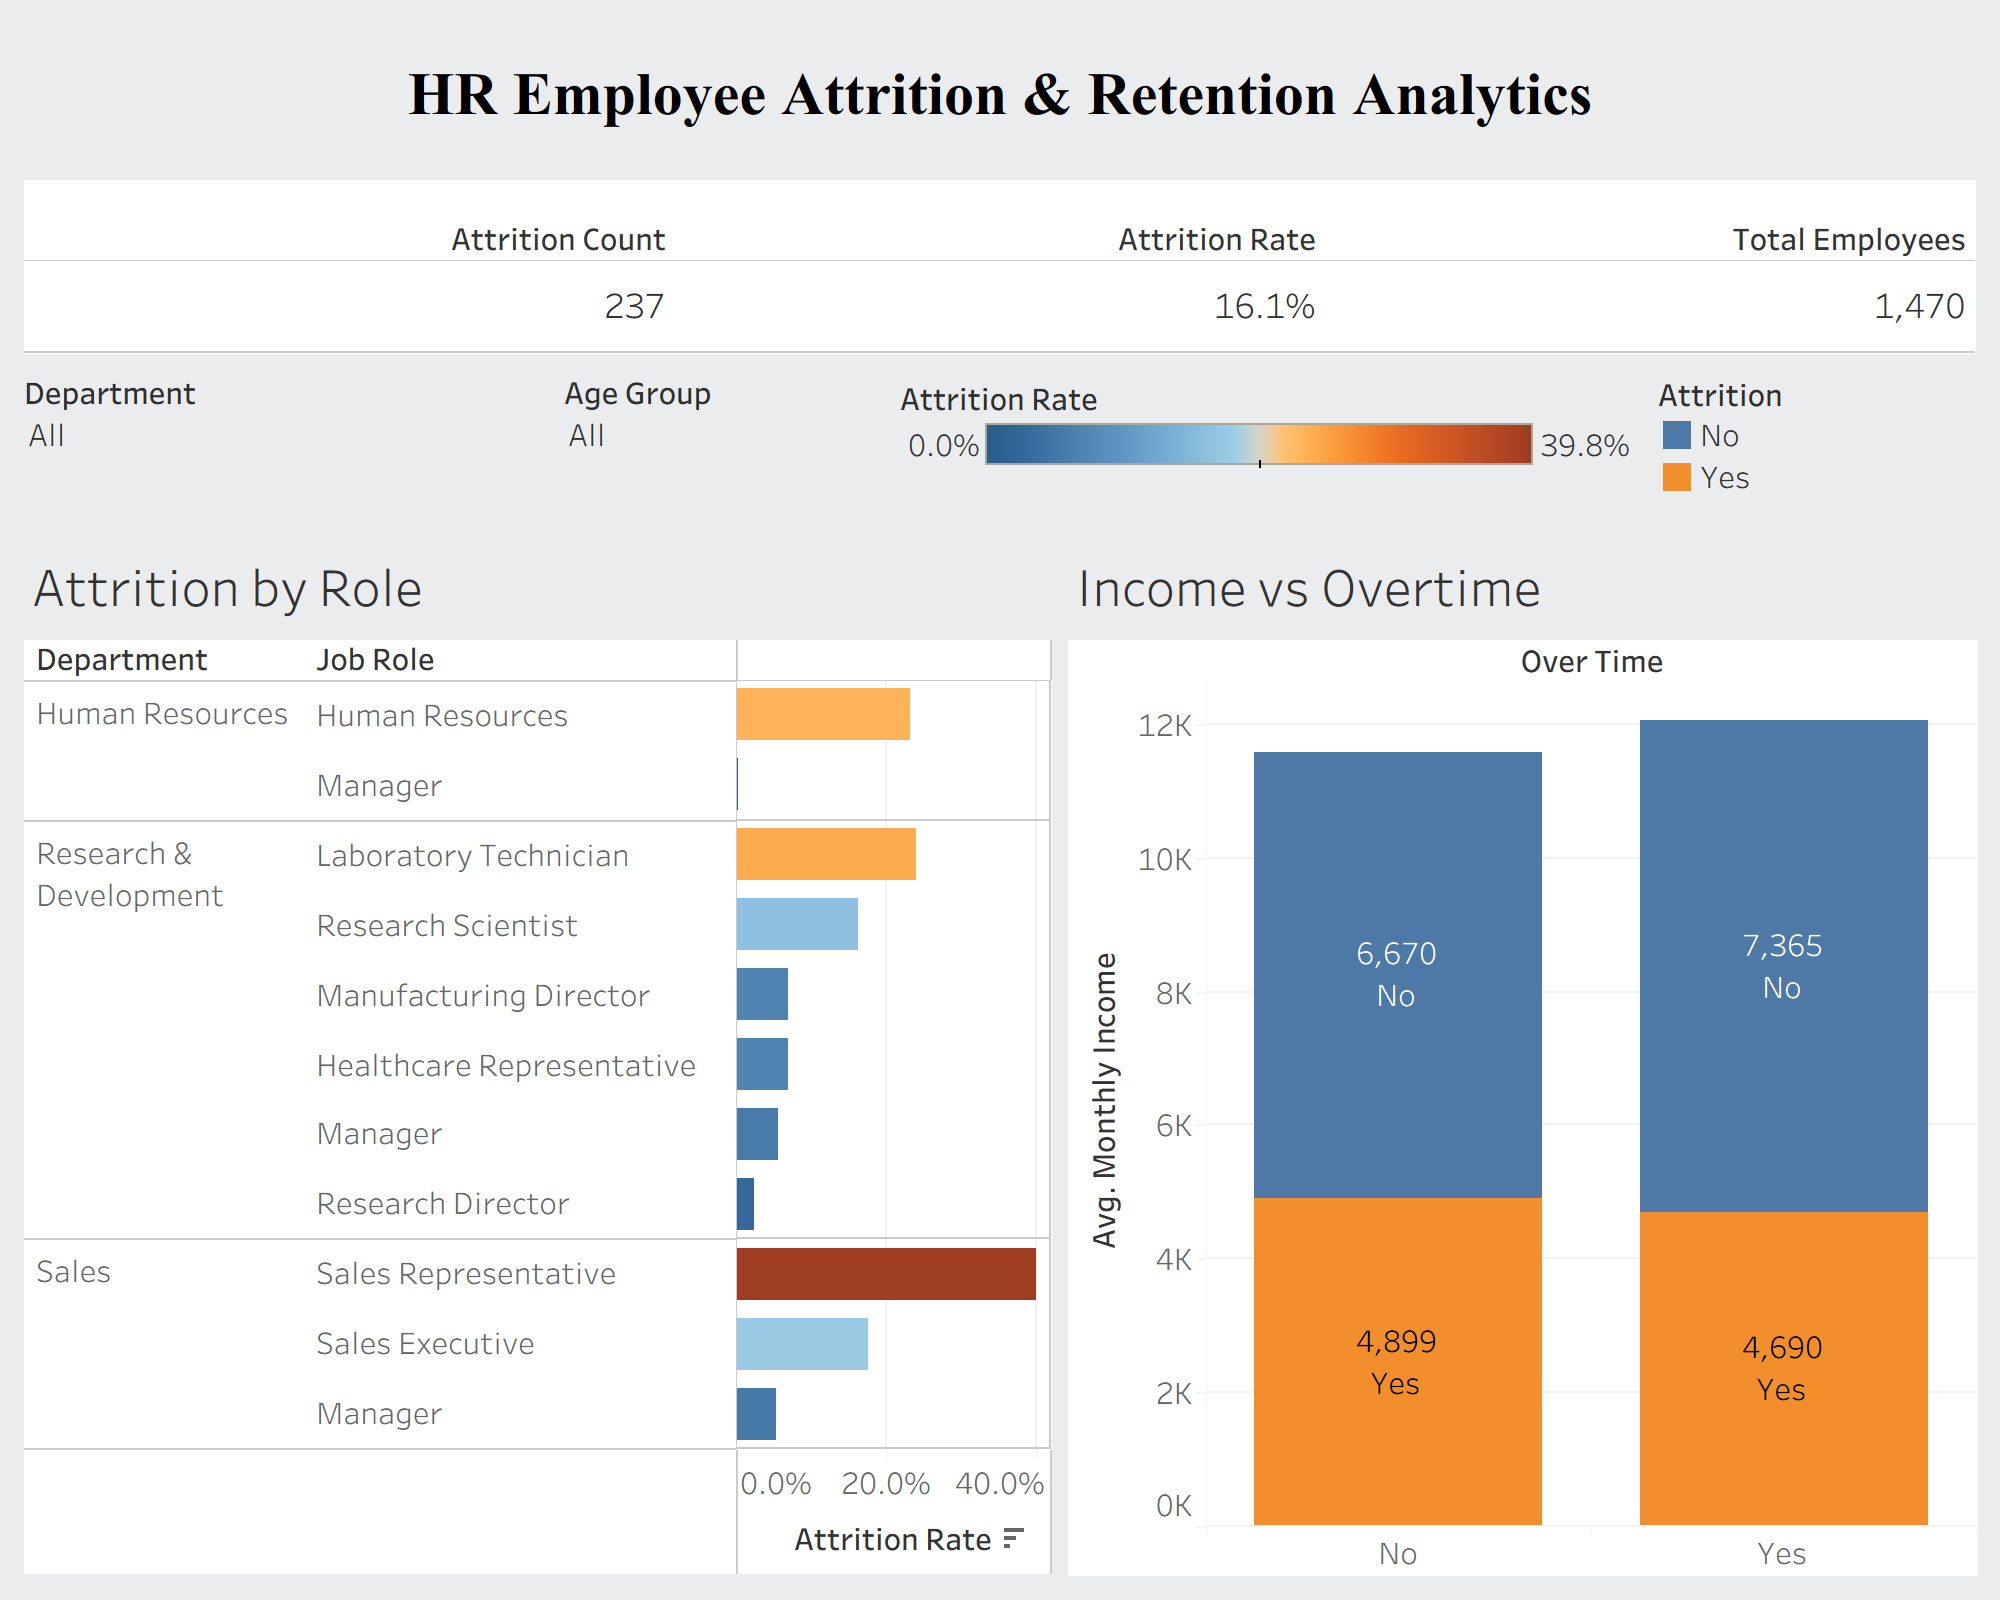

This screenshot's page, from the dashboard's own definition file:
{"tool":"tableau","page":{"name":"Dashboard 1","canvas":[1000,800],"ordinal":0},"visuals":[{"type":"text","box":[8,8,984,78]},{"type":"worksheet","title":"KPIs","mark":"Text","box":[8,86,984,95]},{"type":"filter","title":"Attrition by Role","param":"[federated.09mnnf002r486e1gzkqo40cdcjvo].[none:Department:nk]","box":[8,181,270,85]},{"type":"filter","title":"Attrition by Role","param":"[federated.09mnnf002r486e1gzkqo40cdcjvo].[none:Calculation_0181996801851394:nk]","box":[278,181,168,85]},{"type":"legend","title":"Attrition by Role","param":"[federated.09mnnf002r486e1gzkqo40cdcjvo].[usr:Calculation_0181996801560577:qk]","box":[446,181,378,85]},{"type":"legend","title":"Income vs Overtime","param":"[federated.09mnnf002r486e1gzkqo40cdcjvo].[none:Attrition:nk]","box":[824,181,168,85]},{"type":"worksheet","title":"Attrition by Role","mark":"Automatic","rows":["Department","JobRole"],"cols":["Calculation_0181996801560577"],"box":[8,266,522,526]},{"type":"worksheet","title":"Income vs Overtime","mark":"Bar","rows":["MonthlyIncome"],"cols":["OverTime"],"box":[530,266,462,526]}]}

Visuals, with their boxes in screenshot pixels (x1, y1, x2, y2), scaled from the page's 1000x800 canvas onto the 2000x1600 screenshot:
text: [left=16, top=16, right=1984, bottom=172]
"KPIs" worksheet (Text marks): [left=16, top=172, right=1984, bottom=362]
"Attrition by Role" filter: [left=16, top=362, right=556, bottom=532]
"Attrition by Role" filter: [left=556, top=362, right=892, bottom=532]
"Attrition by Role" legend: [left=892, top=362, right=1648, bottom=532]
"Income vs Overtime" legend: [left=1648, top=362, right=1984, bottom=532]
"Attrition by Role" worksheet: [left=16, top=532, right=1060, bottom=1584]
"Income vs Overtime" worksheet (Bar marks): [left=1060, top=532, right=1984, bottom=1584]
